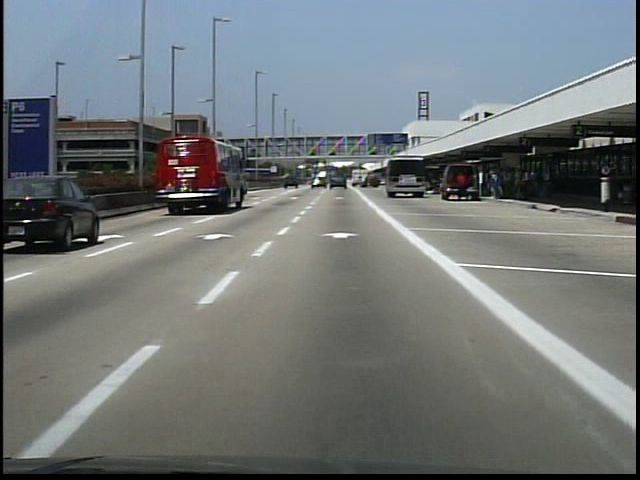person: (456, 167, 472, 204)
